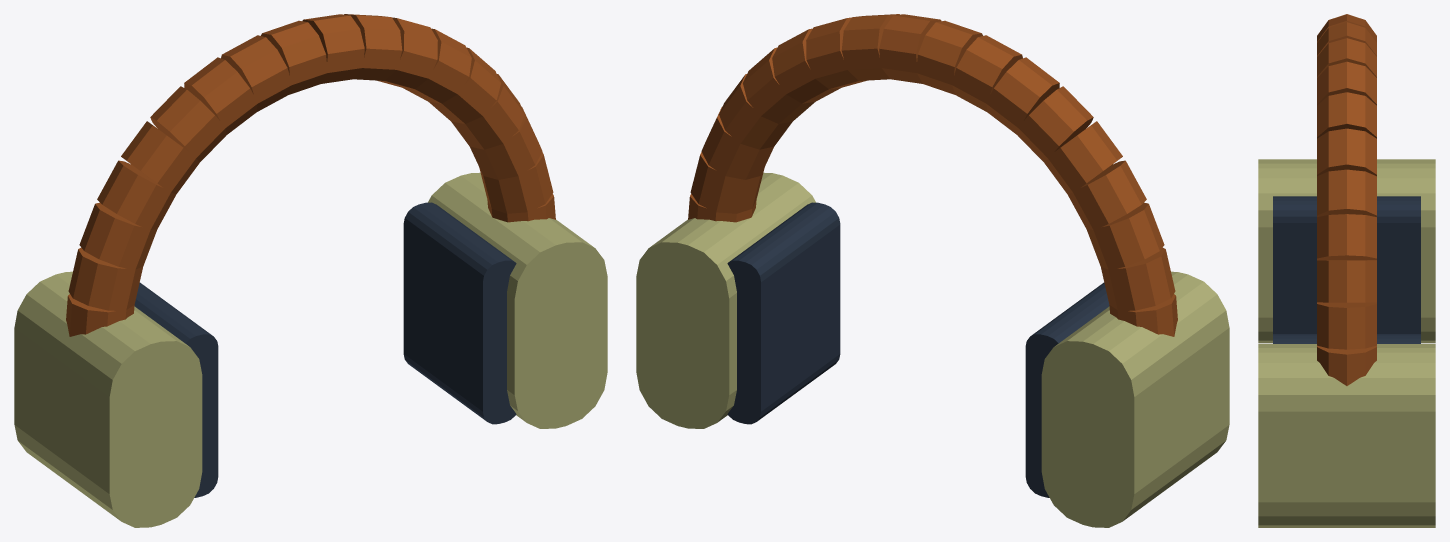
File: headphones.glb
3 renders of one model, left to right at view 1: azimuth 30°, elevation 25°; view 2: azimuth 150°, elevation 25°; view 3: azimuth 270°, elevation 25°, orthographic. The views are drawn at different scales.
Parts seen in each view (by area): view 1: left cup, right cup, right pad, left pad, headband15, headband14, headband12, headband16, headband11, headband13, headband10, headband9 (+10 smaller); view 2: left cup, right cup, right pad, left pad, headband15, headband14, headband12, headband16, headband11, headband13, headband10, headband9 (+10 smaller); view 3: right cup, left pad, left cup, headband1, headband3, headband4, headband2, headband5, headband6, headband7, headband0, headband8 (+3 smaller).
Boxes of the visible parts, x1=… form: left cup: x1=14, y1=271, x2=202, y2=527; right cup: x1=428, y1=172, x2=607, y2=428; right pad: x1=403, y1=202, x2=516, y2=424; left pad: x1=134, y1=282, x2=218, y2=497; headband15: x1=79, y1=202, x2=156, y2=269; headband14: x1=97, y1=160, x2=176, y2=230; headband12: x1=150, y1=86, x2=226, y2=162; headband16: x1=68, y1=247, x2=142, y2=310; headband11: x1=184, y1=57, x2=257, y2=134; headband13: x1=121, y1=121, x2=199, y2=194; headband10: x1=221, y1=35, x2=292, y2=111; headband9: x1=261, y1=20, x2=327, y2=94; left cup: x1=1041, y1=271, x2=1229, y2=527; right cup: x1=636, y1=172, x2=815, y2=428; right pad: x1=727, y1=202, x2=840, y2=424; left pad: x1=1025, y1=282, x2=1109, y2=497; headband15: x1=1087, y1=202, x2=1164, y2=270; headband14: x1=1067, y1=160, x2=1146, y2=230; headband12: x1=1017, y1=86, x2=1093, y2=162; headband16: x1=1101, y1=247, x2=1175, y2=310; headband11: x1=986, y1=57, x2=1059, y2=134; headband13: x1=1044, y1=121, x2=1122, y2=194; headband10: x1=951, y1=35, x2=1022, y2=111; headband9: x1=917, y1=20, x2=982, y2=94; right cup: x1=1258, y1=344, x2=1435, y2=527; left pad: x1=1273, y1=196, x2=1420, y2=333; left cup: x1=1258, y1=159, x2=1435, y2=343; headband1: x1=1317, y1=302, x2=1376, y2=349; headband3: x1=1317, y1=214, x2=1376, y2=259; headband4: x1=1317, y1=169, x2=1376, y2=216; headband2: x1=1317, y1=260, x2=1376, y2=302; headband5: x1=1317, y1=128, x2=1376, y2=176; headband6: x1=1317, y1=92, x2=1376, y2=138; headband7: x1=1317, y1=61, x2=1376, y2=105; headband0: x1=1317, y1=345, x2=1376, y2=385; headband8: x1=1317, y1=38, x2=1376, y2=77.
Size of the model in its own units: 1.45 by 1.17 by 0.48.
